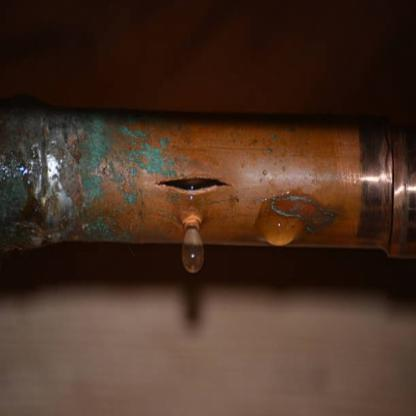burst: (132, 159, 248, 214)
